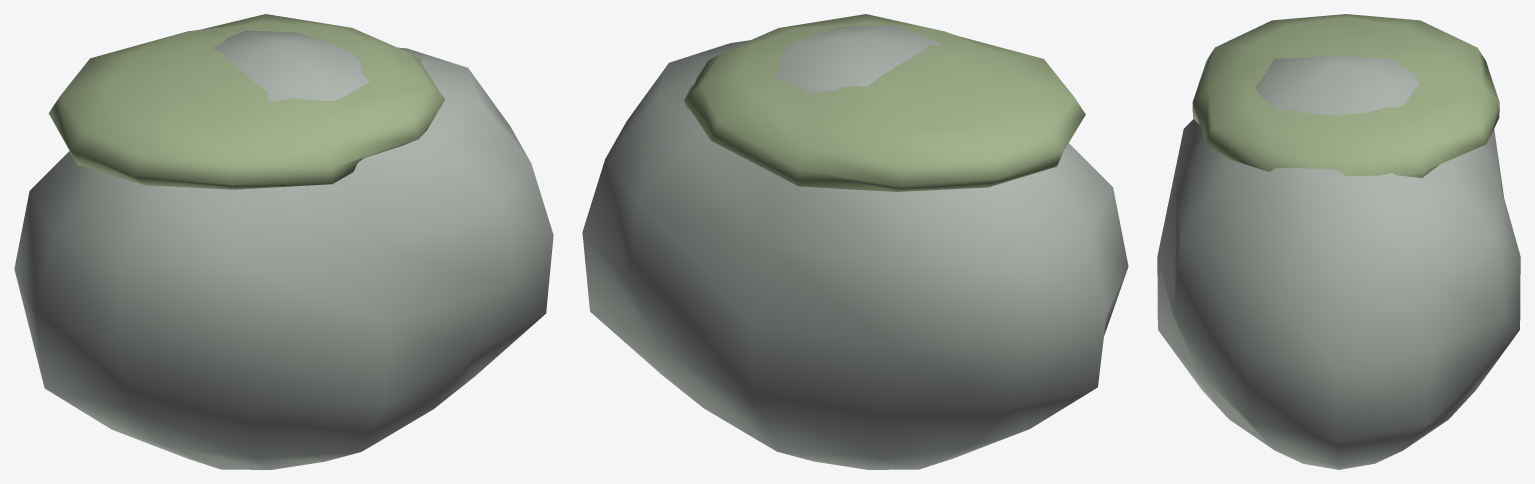
Rendered from SM_Rock_2_UV9615.fbx.
3 views of the same model, side by side, from view 1: azimuth 30°, elevation 25°; view 2: azimuth 150°, elevation 25°; view 3: azimuth 270°, elevation 25° (orthographic). The views are drawn at different scales.
Visible parts, largest first — view 1: SM_Rock_2_UV9615; view 2: SM_Rock_2_UV9615; view 3: SM_Rock_2_UV9615.
Part boxes in pixels (box(x1,y1,x2,y2)): SM_Rock_2_UV9615: box(14, 14, 553, 469); SM_Rock_2_UV9615: box(582, 14, 1128, 469); SM_Rock_2_UV9615: box(1157, 14, 1520, 469).
Bounding box in the file's own units: 371 × 254 × 285.
